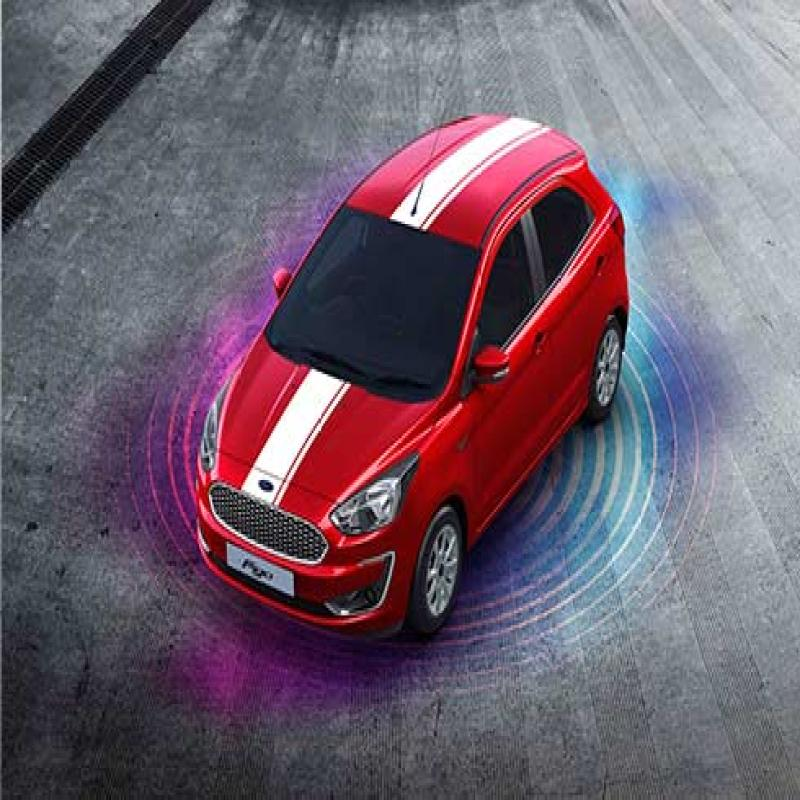car: (151, 94, 672, 627)
